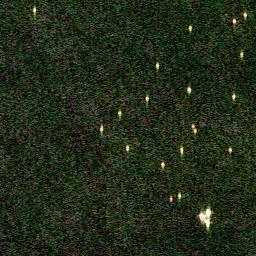Ship: (237, 9, 252, 22), (156, 159, 169, 170), (197, 209, 205, 226), (183, 85, 194, 97), (166, 191, 175, 204), (201, 220, 214, 229), (97, 120, 104, 136), (229, 16, 239, 27), (28, 6, 39, 15), (204, 207, 213, 217), (178, 145, 186, 156), (230, 92, 237, 104), (185, 24, 194, 33), (125, 142, 131, 154), (239, 48, 244, 62), (176, 191, 183, 201), (154, 59, 160, 70), (227, 144, 233, 155), (143, 94, 149, 103), (118, 110, 123, 120), (189, 120, 195, 128), (192, 127, 198, 135)
